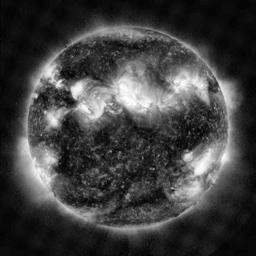solar flares: (70, 82, 108, 121), (118, 79, 155, 113), (180, 76, 210, 100), (45, 71, 69, 91), (183, 180, 202, 198)
sunspots: (171, 119, 199, 143), (187, 151, 212, 169), (135, 188, 166, 202), (106, 41, 137, 55), (47, 109, 69, 127), (39, 146, 62, 163), (131, 122, 154, 139), (135, 159, 155, 178), (69, 196, 100, 207), (96, 125, 110, 148), (62, 63, 84, 77), (73, 153, 92, 169), (38, 93, 58, 108), (61, 96, 75, 107), (143, 41, 156, 50)
